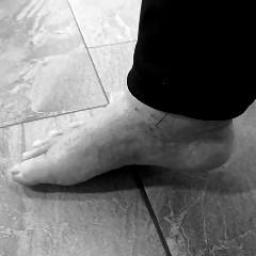Medial View -Right Foot-: (1, 69, 246, 210)
